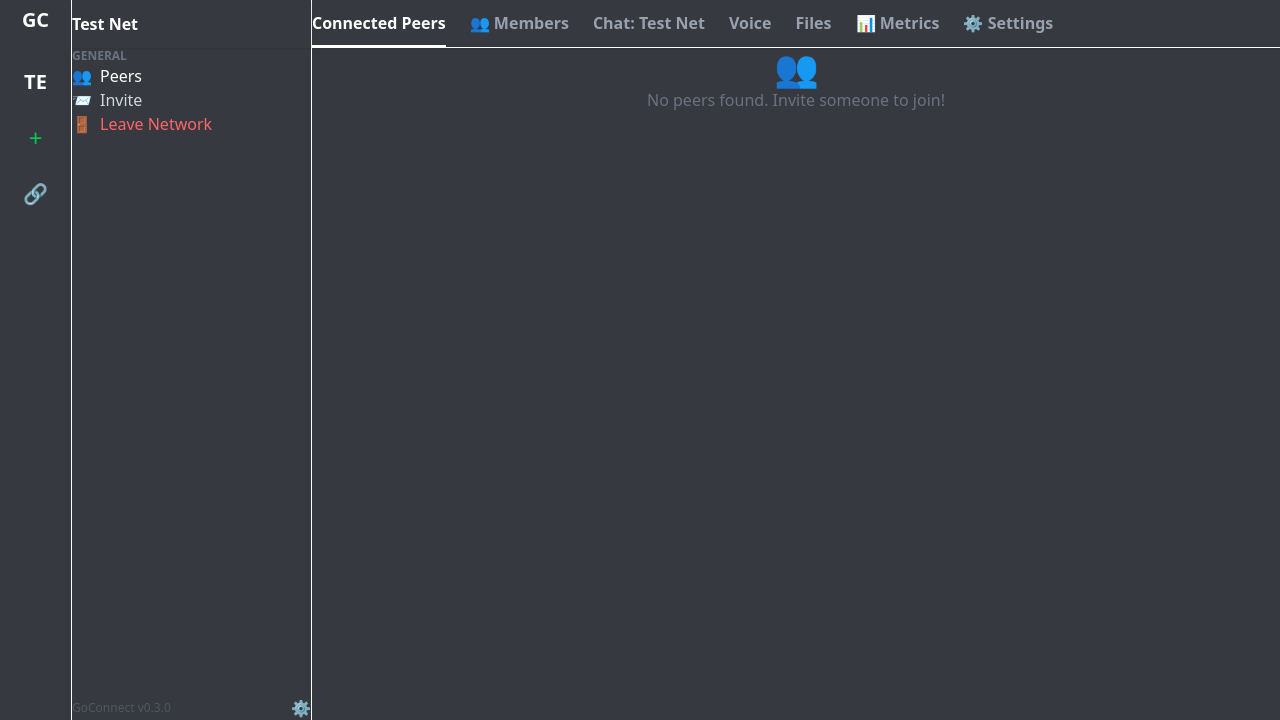
App Integration › opens create network modal
The width and height of the screenshot is (1280, 720).
Click the button titled "Create Network" at (36, 138), box [12,114,60,162]
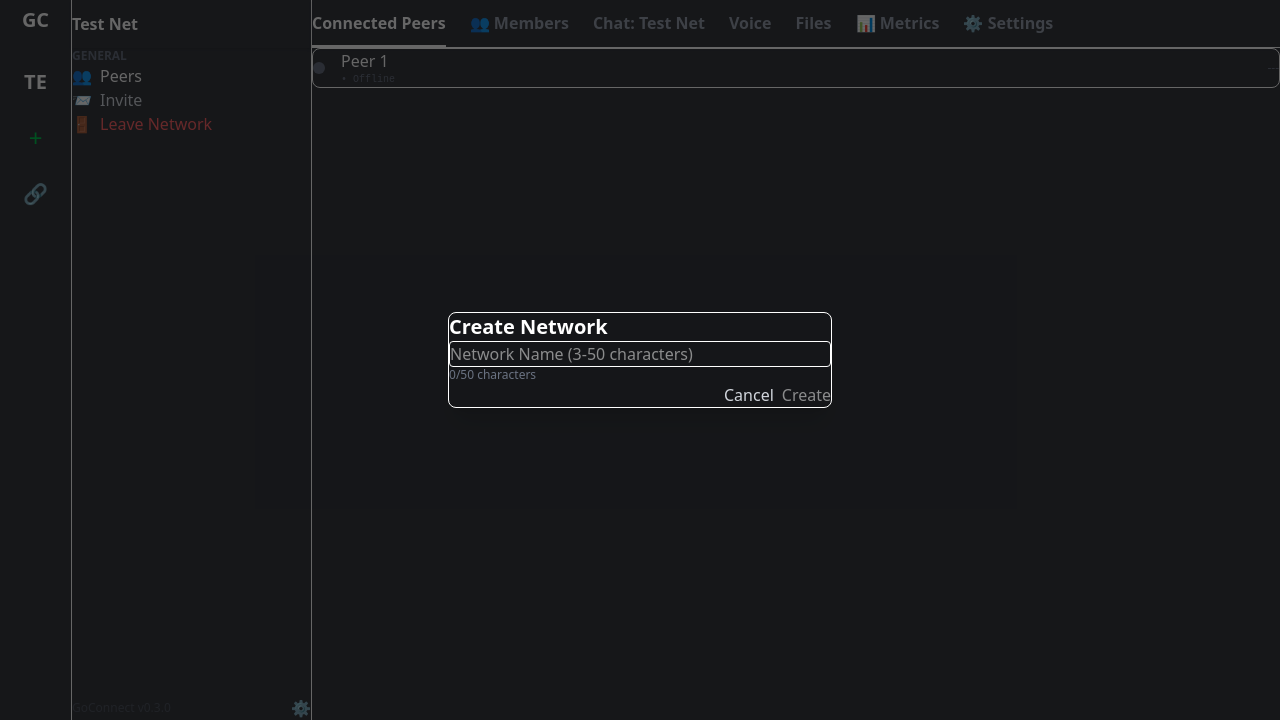
Expected: the heading "Create Network" is shown, [449,313,608,340]
